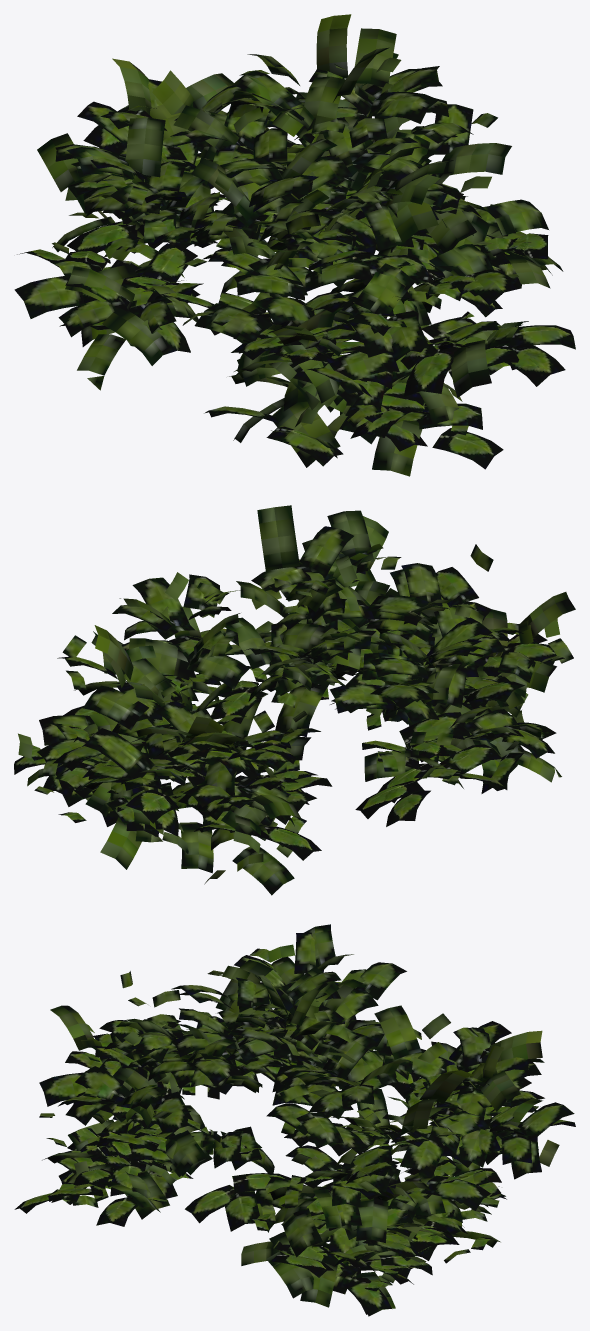
Rendered from bush.glb.
The picture shows the model from 3 angles, top to bottom: view 1: azimuth 30°, elevation 25°; view 2: azimuth 150°, elevation 25°; view 3: azimuth 270°, elevation 25°; orthographic projection. The views are drawn at different scales.
Parts seen in each view (by area): view 1: tree.002; view 2: tree.002; view 3: tree.002.
Part boxes in pixels (x1=…): tree.002: x1=14, y1=14, x2=575, y2=476; tree.002: x1=14, y1=505, x2=575, y2=895; tree.002: x1=14, y1=924, x2=575, y2=1316.
Size of the model in its own units: 1.29 by 0.728 by 1.4.
1 material, 1 textured.
